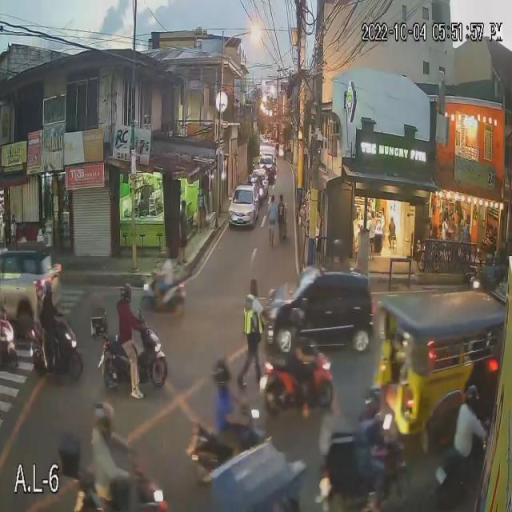helmet: (360, 386, 382, 412), (214, 358, 233, 388), (289, 308, 306, 331), (96, 403, 114, 423), (462, 384, 479, 402), (119, 283, 132, 301), (38, 284, 52, 298), (159, 247, 171, 262)
motorcycle: (316, 417, 401, 512), (185, 413, 265, 491), (260, 351, 336, 418), (97, 324, 168, 393), (63, 471, 169, 512), (421, 440, 479, 512), (31, 310, 84, 385), (142, 274, 188, 312)
rider: (90, 404, 147, 512), (446, 385, 489, 484), (346, 386, 386, 492), (114, 283, 148, 399), (210, 358, 256, 443), (280, 314, 318, 394), (36, 283, 62, 367), (155, 250, 178, 292)
